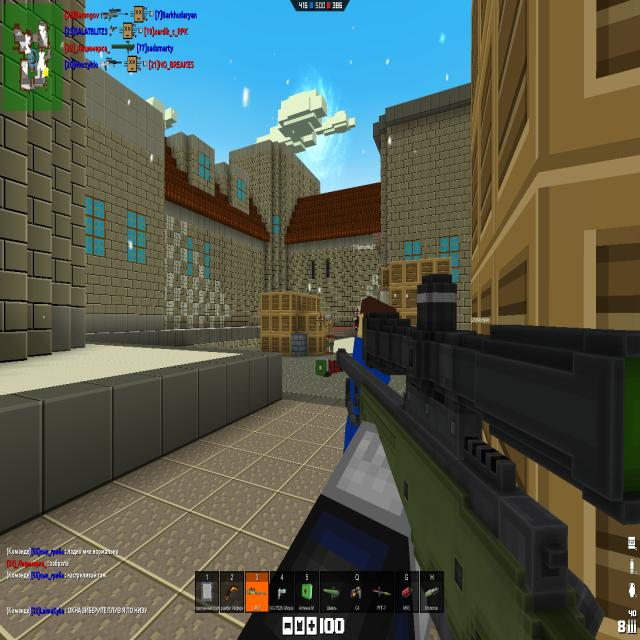player: (350, 297, 396, 455), (318, 313, 333, 352), (354, 308, 360, 330)
